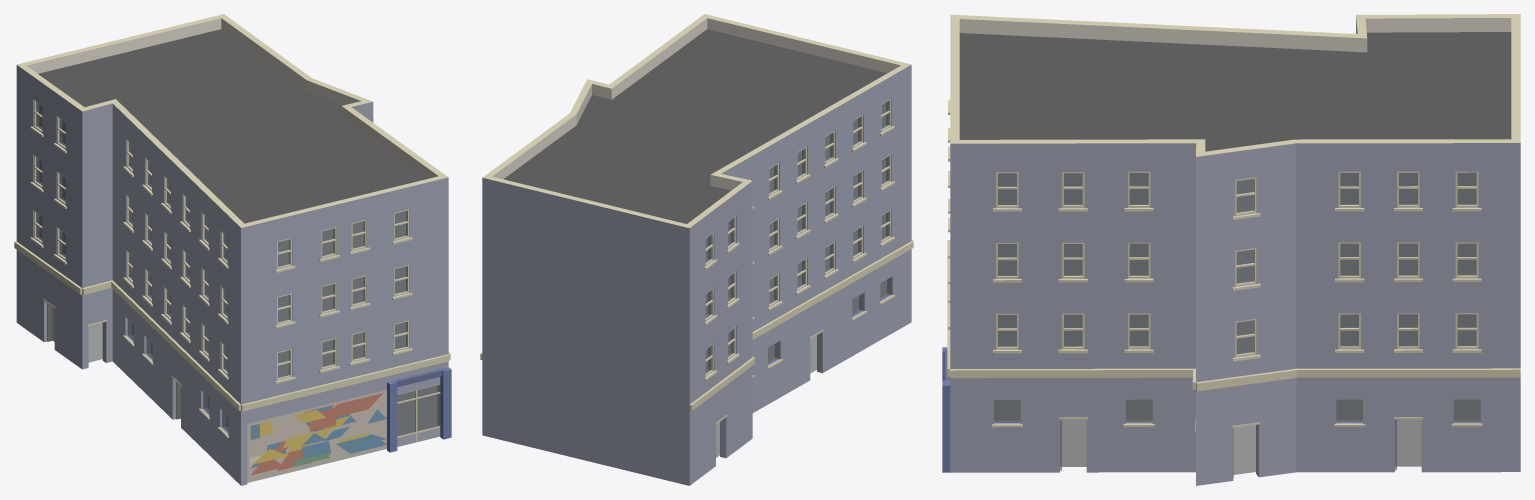
The model's file is exterior.glb.
3 renders of one model, left to right at view 1: azimuth 30°, elevation 25°; view 2: azimuth 150°, elevation 25°; view 3: azimuth 270°, elevation 25°, orthographic. The views are drawn at different scales.
Parts seen in each view (by area): view 1: shell, roof, glazing, mural, trim, shadow-proxy, frames, storefront, hand-ornament; view 2: shell, roof, glazing, trim, frames, shadow-proxy; view 3: shell, roof, shadow-proxy, glazing, trim, frames, hand-ornament.
Part boxes in pixels (box(x1,y1,x2,y2)): shell: box(16, 14, 448, 485); roof: box(38, 29, 426, 223); glazing: box(36, 102, 439, 436); mural: box(249, 392, 386, 477); trim: box(14, 126, 450, 437); shadow-proxy: box(39, 104, 436, 435); frames: box(34, 99, 409, 380); storefront: box(43, 299, 440, 482); hand-ornament: box(387, 367, 451, 452); shell: box(482, 14, 911, 485); roof: box(504, 29, 887, 223); glazing: box(705, 101, 890, 373); trim: box(480, 126, 913, 411); frames: box(705, 99, 891, 376); shadow-proxy: box(706, 102, 886, 457); shell: box(950, 14, 1520, 485); roof: box(959, 32, 1511, 151); shadow-proxy: box(994, 173, 1479, 474); glazing: box(994, 172, 1480, 422); trim: box(947, 100, 1520, 427); frames: box(996, 171, 1478, 357); hand-ornament: box(942, 347, 950, 472).
Bounding box in the file's own units: 12.9 × 13.6 × 21.66.
